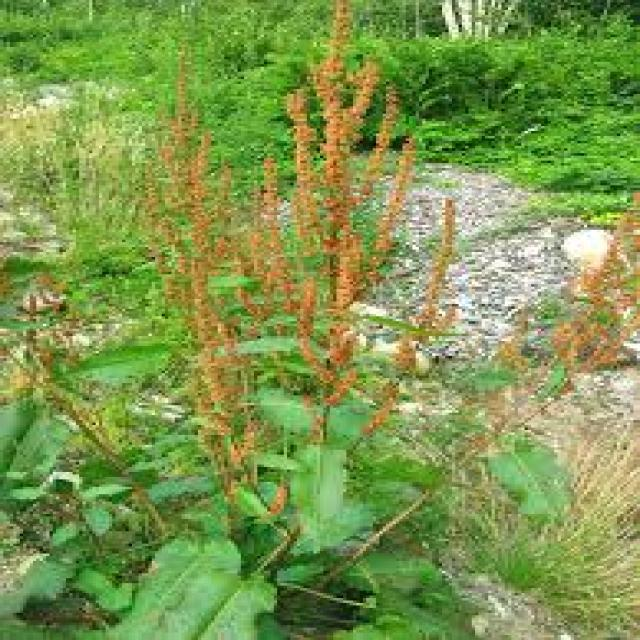organic waste: (0, 368, 488, 640)
